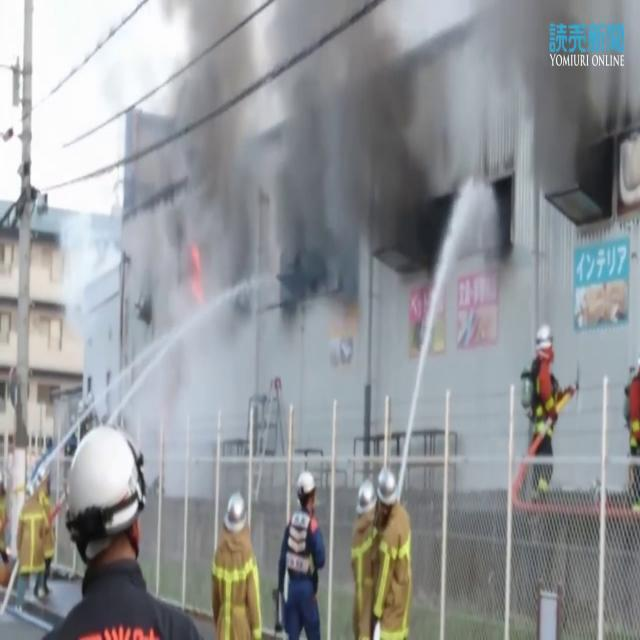Smoke: (133, 4, 434, 287), (477, 0, 640, 183)
